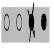correct: (41, 12, 47, 31)
not correct: (27, 1, 36, 43)
